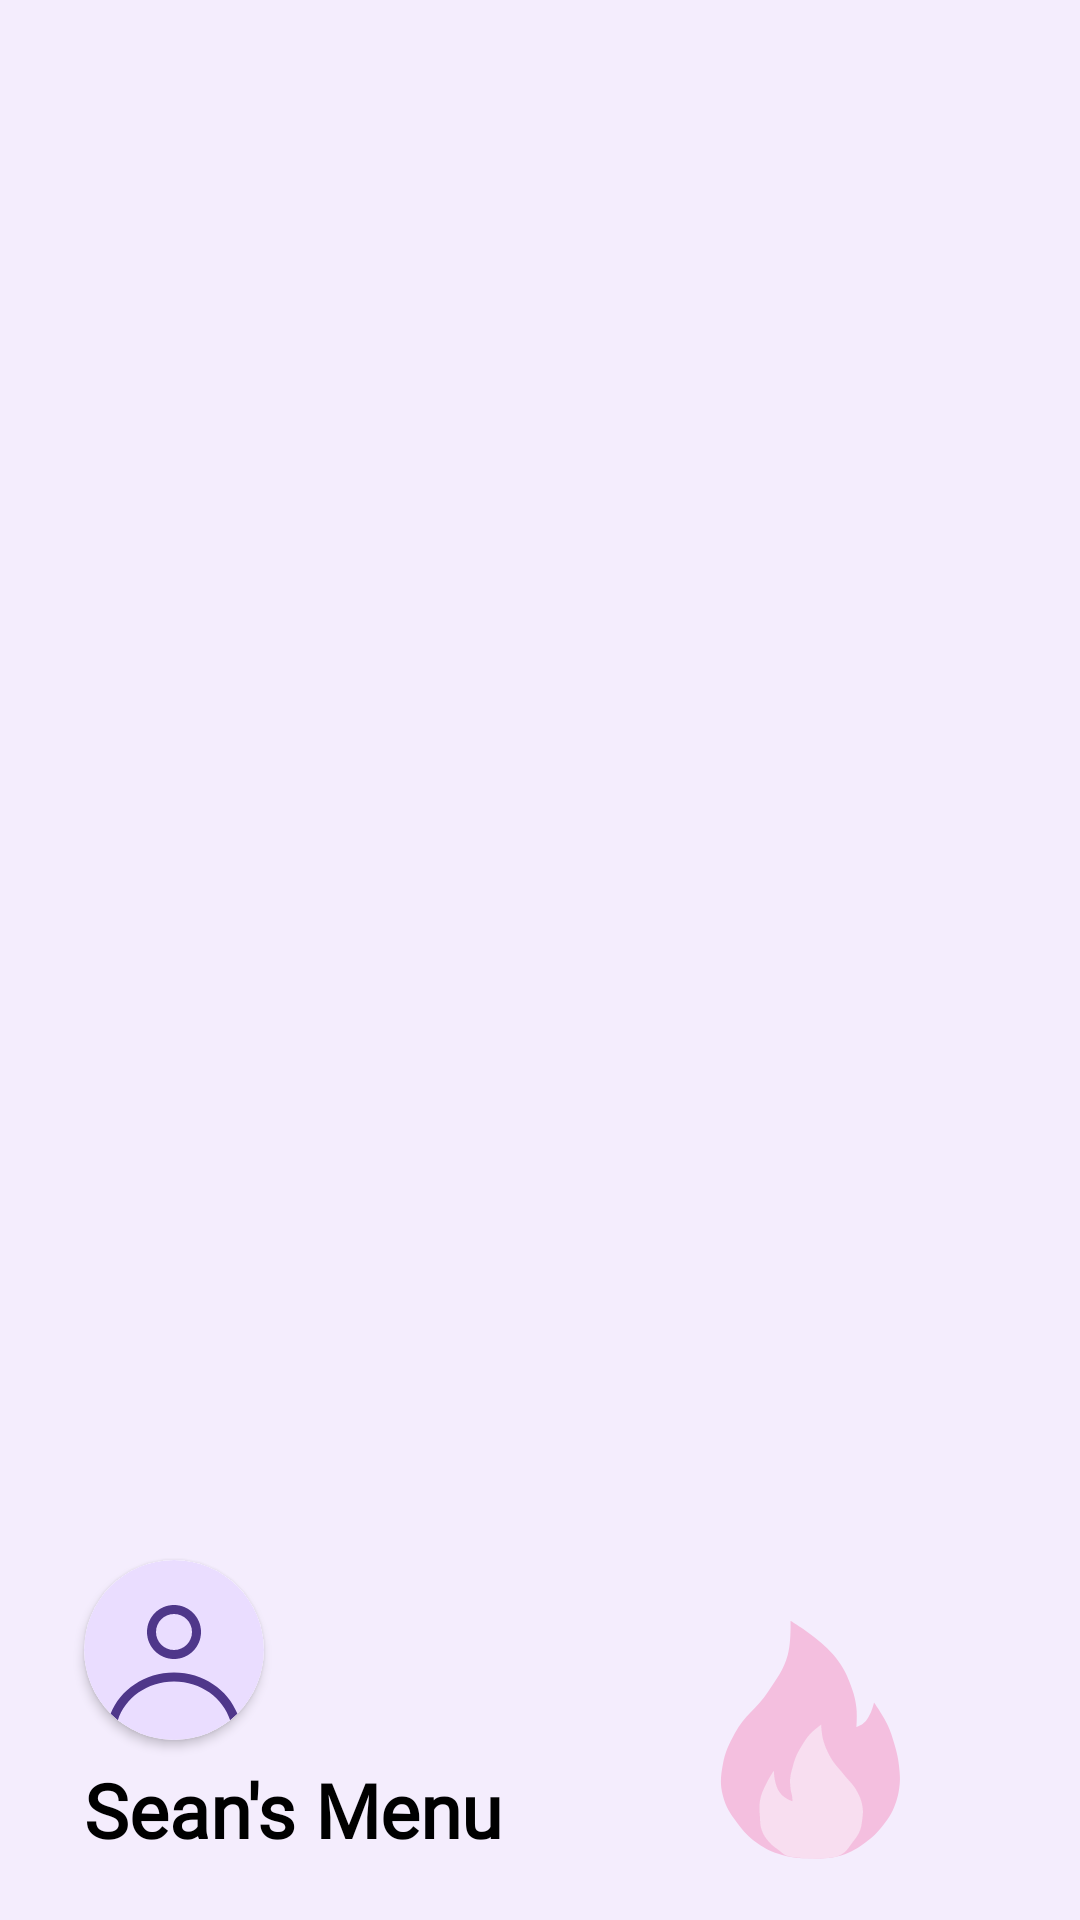

Named icons in this screenshot (1080 × 1920) and their bounding boxes, (x1, y1, x2, y2):
fire expense: (721, 1621, 900, 1858)
